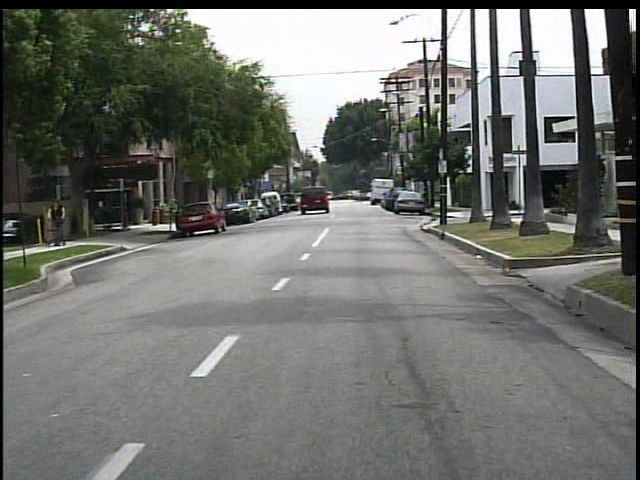person: (50, 196, 75, 247)
